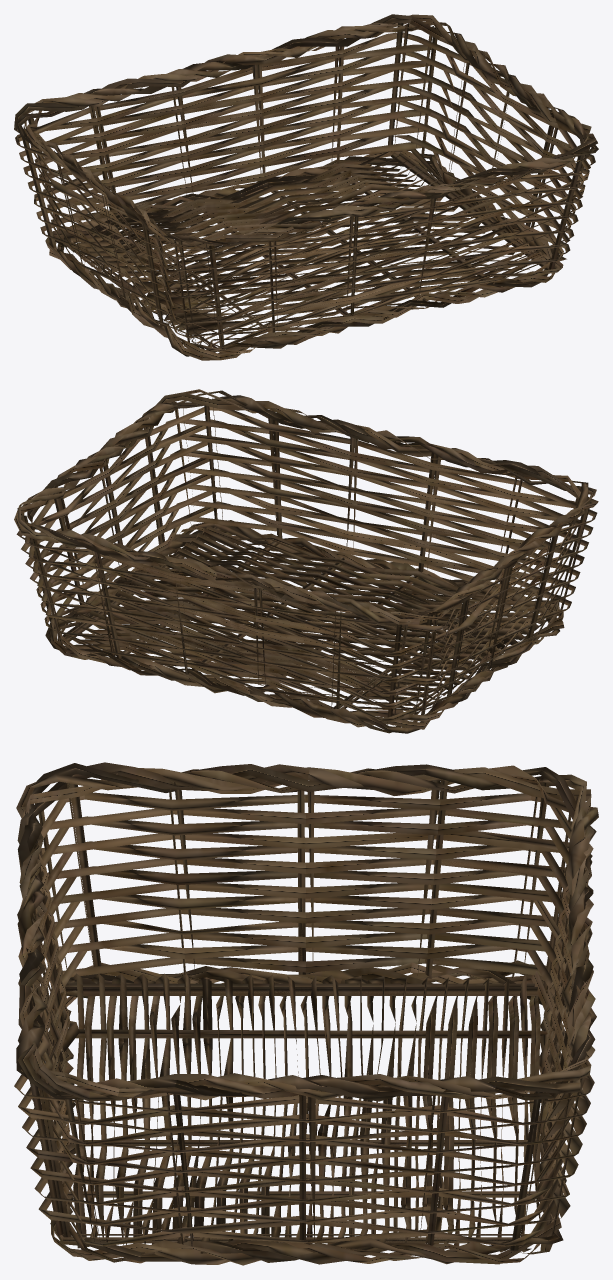
The model's file is wicker_basket_01.glb.
The picture shows the model from 3 angles, top to bottom: view 1: azimuth 30°, elevation 25°; view 2: azimuth 150°, elevation 25°; view 3: azimuth 270°, elevation 25°; orthographic projection. The views are drawn at different scales.
Parts seen in each view (by area): view 1: wicker_basket_01; view 2: wicker_basket_01; view 3: wicker_basket_01.
Boxes of the visible parts, left/top/right/bottom form: wicker_basket_01: left=14, top=14, right=598, bottom=360; wicker_basket_01: left=14, top=389, right=598, bottom=733; wicker_basket_01: left=14, top=762, right=598, bottom=1265.
Bounding box in the file's own units: 0.383 × 0.1174 × 0.2939.
1 material, 1 textured.
